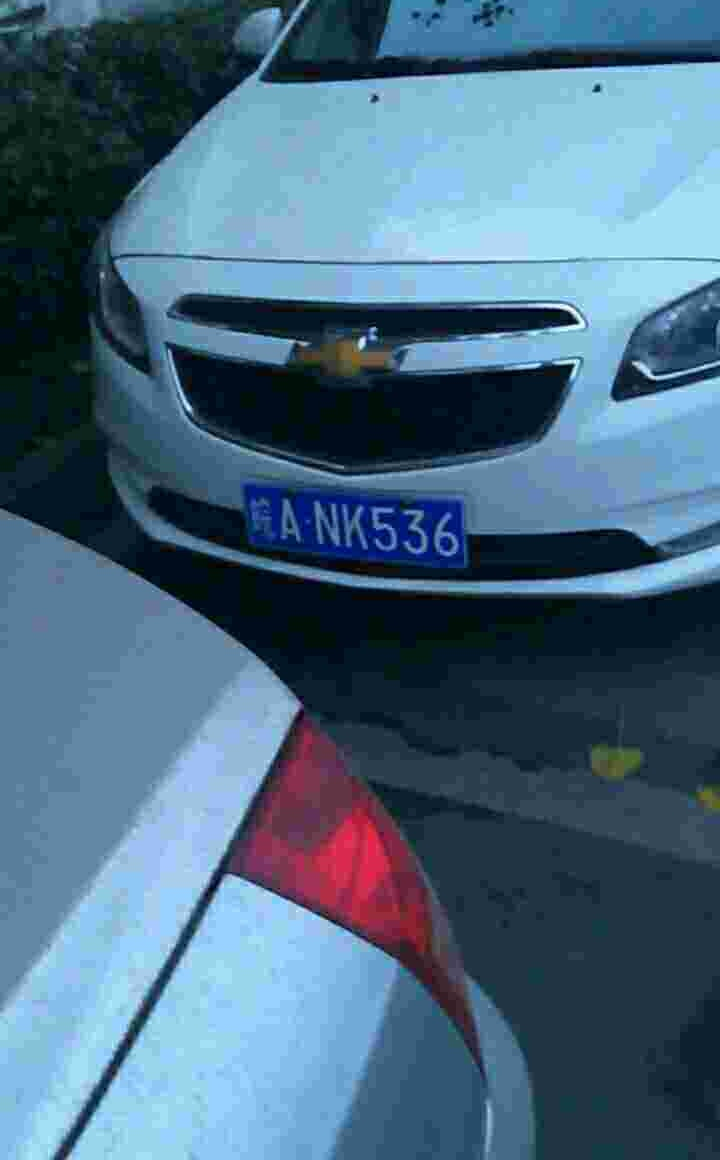plate: (238, 478, 471, 575)
